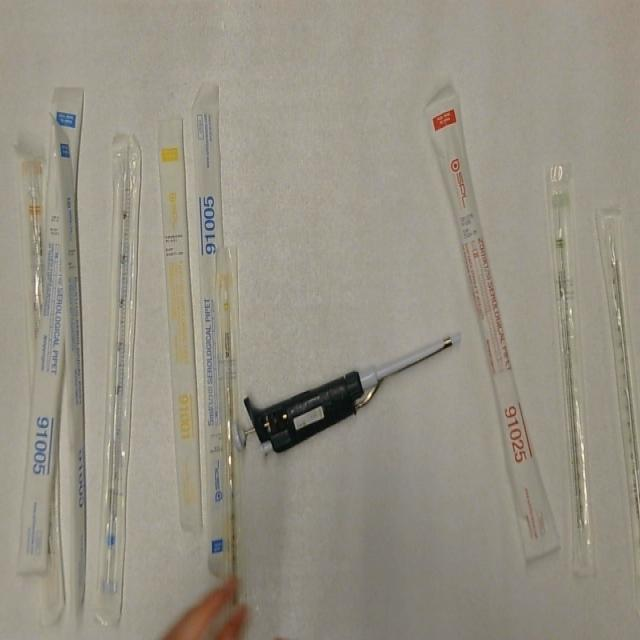Serelogical Pipet 1 mL - Sealed: (152, 110, 205, 538), (213, 244, 253, 638)
Serelogical Pipet 10 mL - Sealed: (16, 152, 50, 398)
Serelogical Pipet 2 mL - Sealed: (544, 158, 600, 580)
Serelogical Pipet 25 mL - Sealed: (420, 85, 564, 566)
Serelogical Pipet 5 mL - Sealed: (14, 80, 87, 580), (89, 135, 146, 630), (190, 82, 240, 581), (50, 115, 86, 618)
Single Channel Pipettor: (227, 328, 464, 459)
